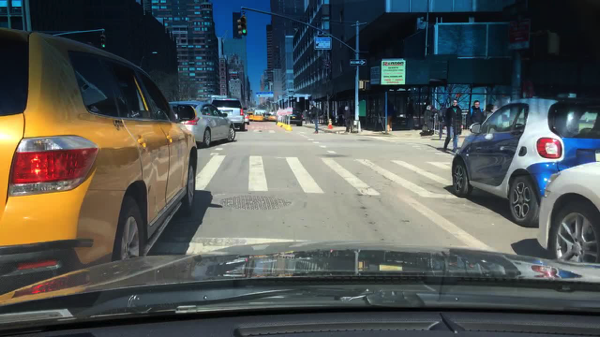car: (0, 27, 199, 283), (450, 96, 599, 228), (535, 148, 598, 265), (167, 100, 237, 148), (209, 96, 246, 132), (281, 107, 303, 128), (268, 111, 278, 121), (254, 114, 265, 122), (244, 112, 249, 126), (249, 110, 254, 122)
person: (442, 100, 464, 153), (466, 100, 487, 129), (308, 101, 321, 134), (420, 104, 433, 136), (487, 105, 504, 129), (404, 98, 416, 130), (383, 99, 394, 132), (438, 102, 446, 141), (342, 104, 351, 133), (302, 107, 308, 123)
traffic light: (546, 31, 560, 59), (240, 15, 247, 37), (235, 18, 242, 37), (100, 34, 107, 50), (362, 82, 371, 92), (358, 80, 364, 90)
traffic sign: (506, 18, 530, 51), (313, 37, 331, 51), (256, 91, 275, 99), (348, 60, 367, 66)
